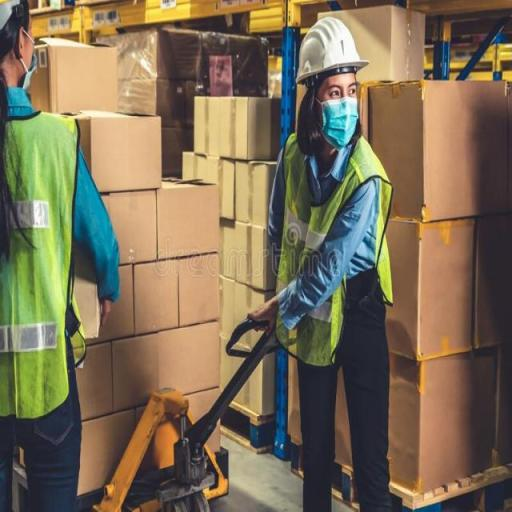helmet: (293, 11, 371, 87), (0, 0, 34, 67)
vest: (0, 100, 88, 434), (274, 132, 396, 344)
